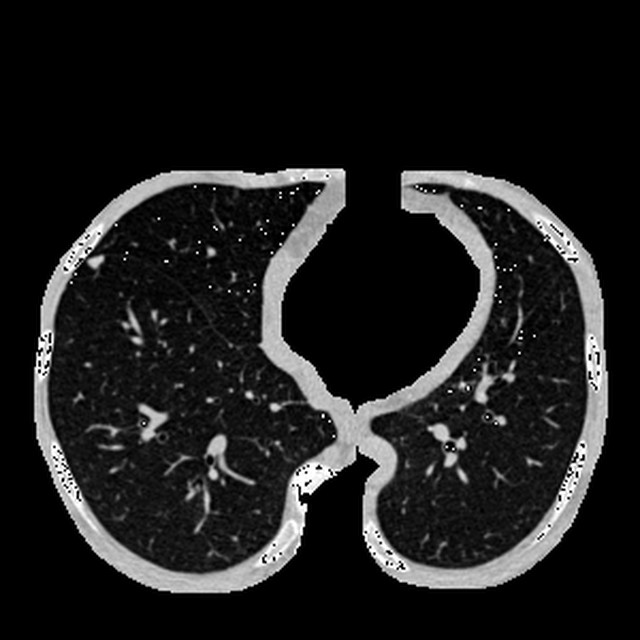PN: (85, 252, 102, 269)
